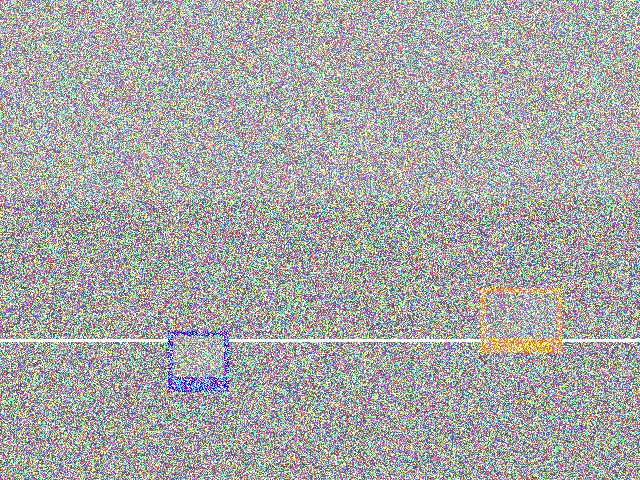car: (446, 344, 627, 480)
